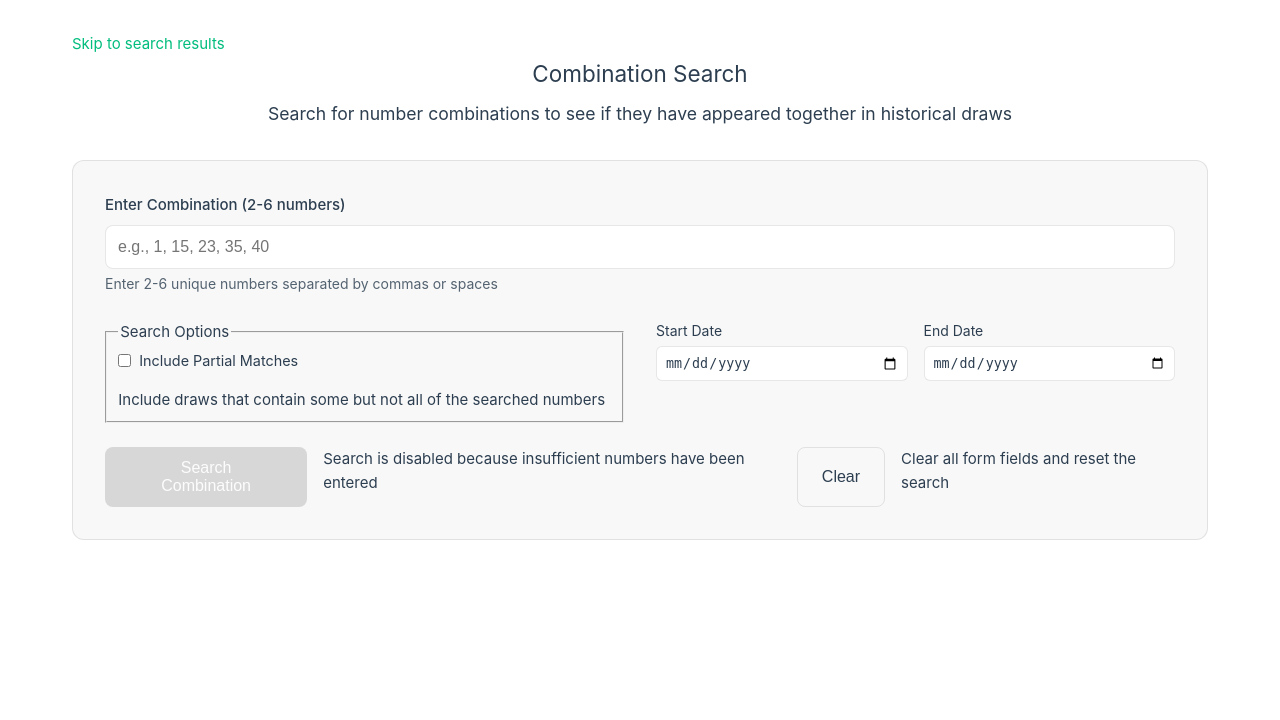
Test: CombinationSearch › shows validation errors for invalid combinations
This screenshot has width=1280, height=720.
Type "1" into the field with class "combination-input".
click(640, 247); type("1")  # box [105,225,1175,269]
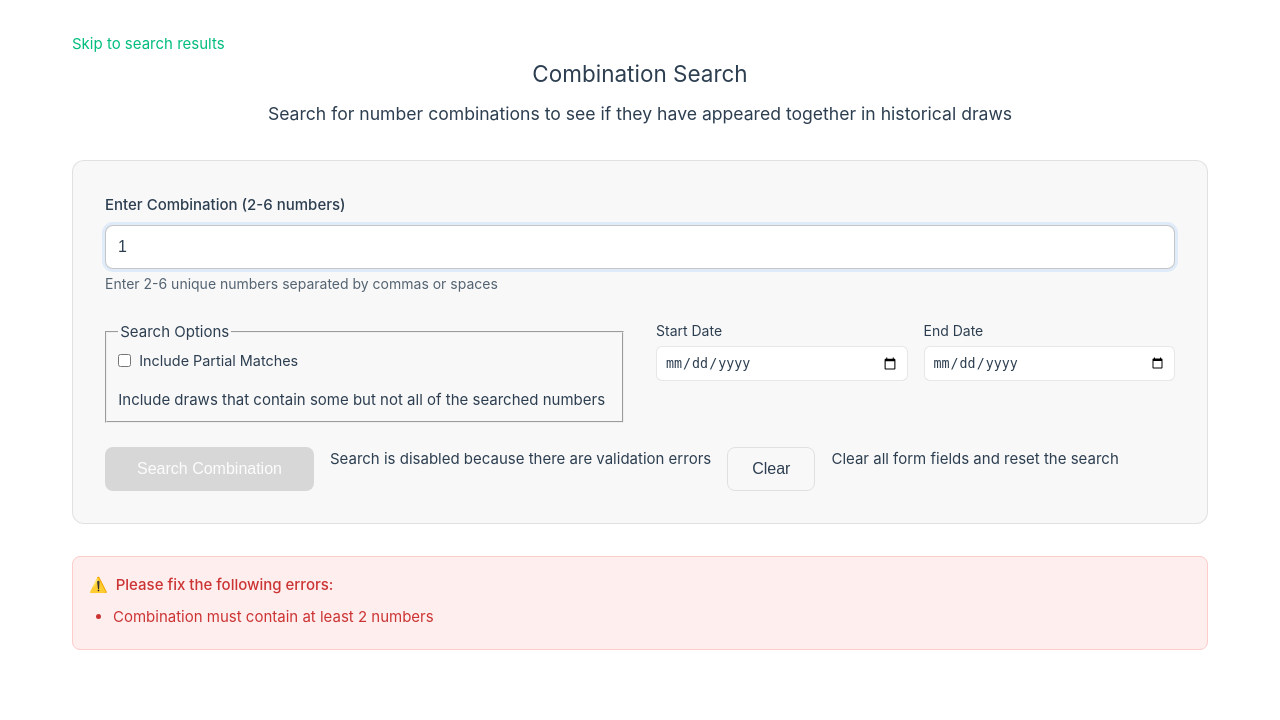
Now the message with class "error-messages" is shown, box [72,556,1208,650]
